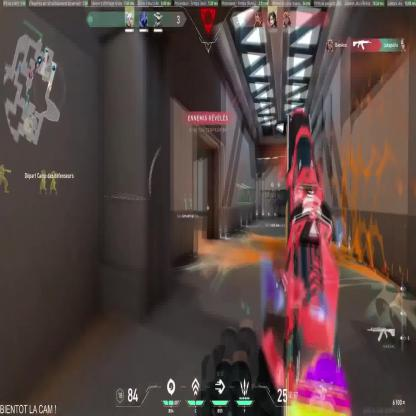enemy: (0, 163, 11, 193), (38, 168, 48, 196), (49, 170, 57, 196)
enemy_head: (51, 171, 56, 176), (0, 165, 5, 169), (41, 170, 45, 174)
